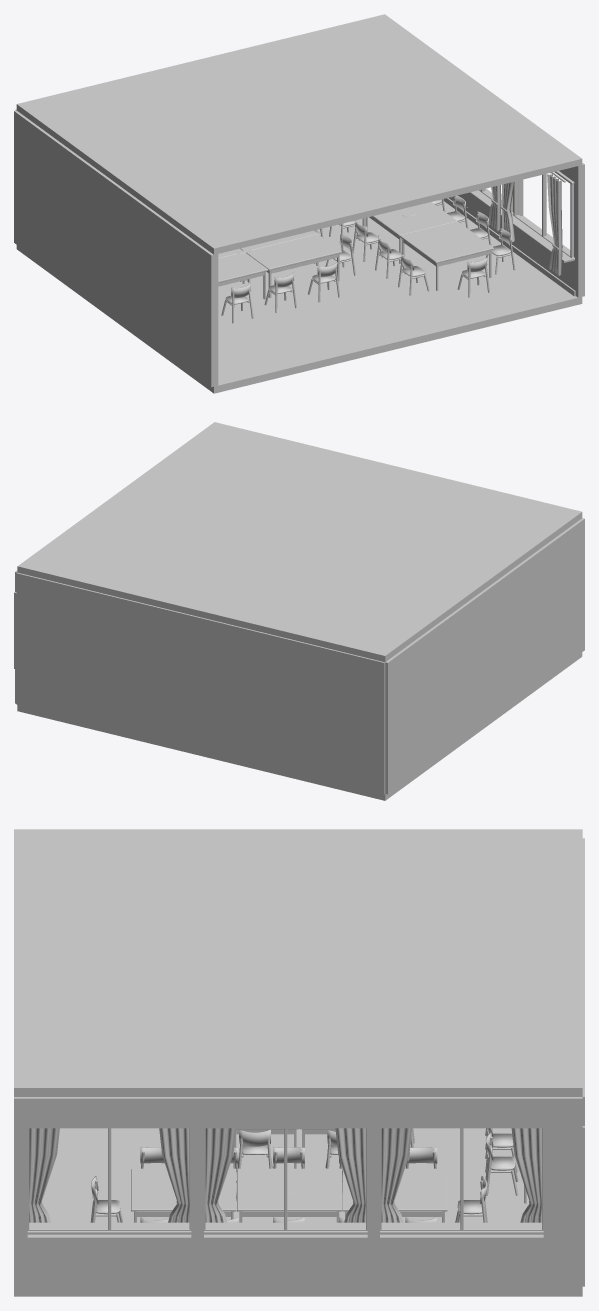
File: classroom-white-sun-v7.glb
The picture shows the model from 3 angles, top to bottom: view 1: azimuth 30°, elevation 25°; view 2: azimuth 150°, elevation 25°; view 3: azimuth 270°, elevation 25°; orthographic projection. The views are drawn at different scales.
Visible parts, largest first — view 1: Classroom_white_mobile; view 2: Classroom_white_mobile; view 3: Classroom_white_mobile.
Part boxes in pixels (x1=…): Classroom_white_mobile: x1=14, y1=14, x2=584, y2=393; Classroom_white_mobile: x1=14, y1=422, x2=584, y2=800; Classroom_white_mobile: x1=14, y1=829, x2=584, y2=1296.
Size of the model in its own units: 9.94 by 3.69 by 9.14.
1 material, 1 textured.
